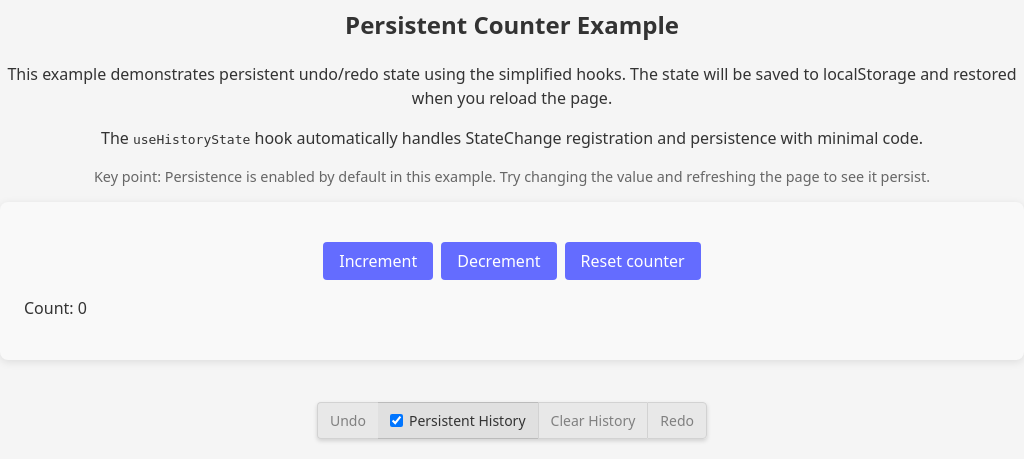
Test: PersistentCounter component › updates counter value when buttons are clicked
Expected: the text "Count: 0" is shown, [24,297,87,319]
Click the button "Increment": coordinates (378, 261) [323,242,433,280]
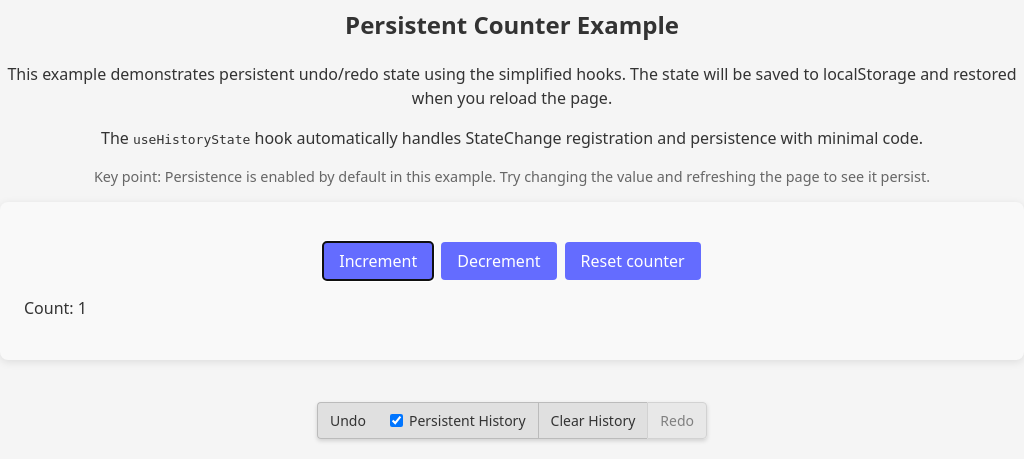
Expected: the text "Count: 1" is shown, [24,297,87,319]
// Increment again
Click the button "Increment": coordinates (378, 261) [323,242,433,280]
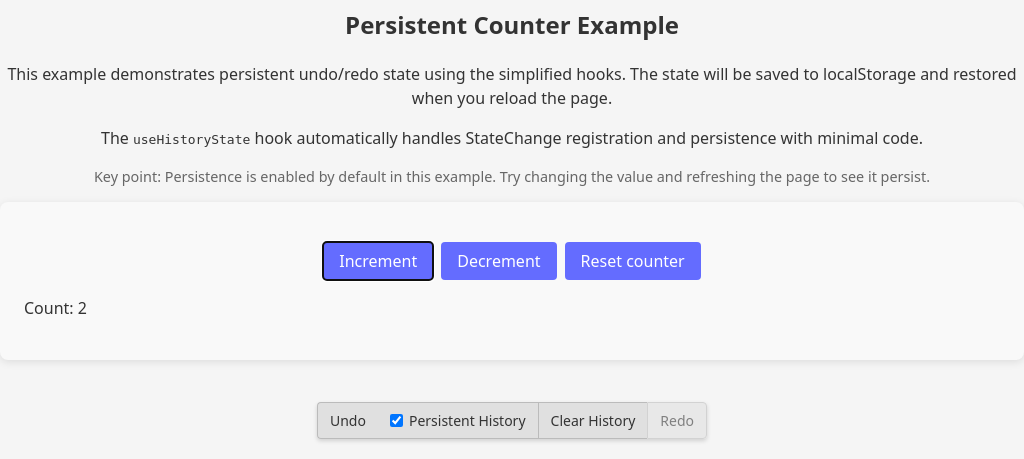
Expected: the text "Count: 2" is shown, [24,297,87,319]
Click the button "Decrement": coordinates (499, 261) [441,242,557,280]
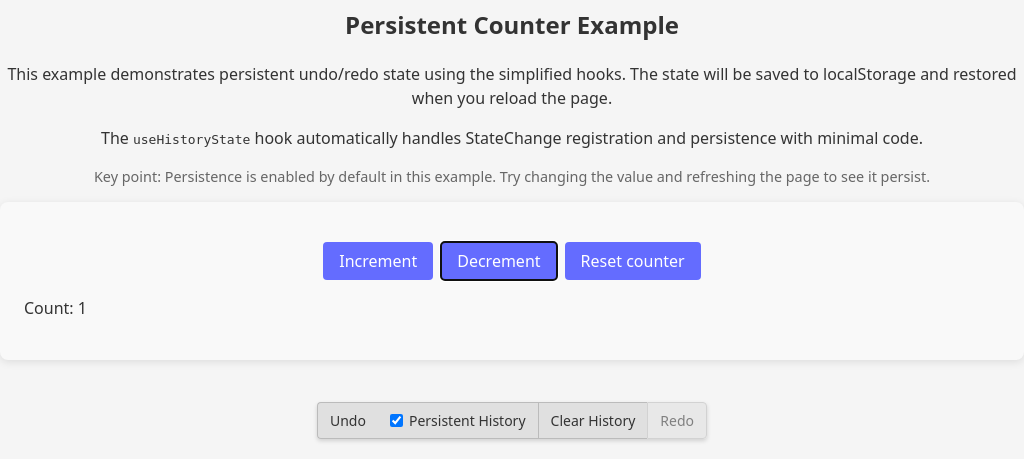
Expected: the text "Count: 1" is shown, [24,297,87,319]
